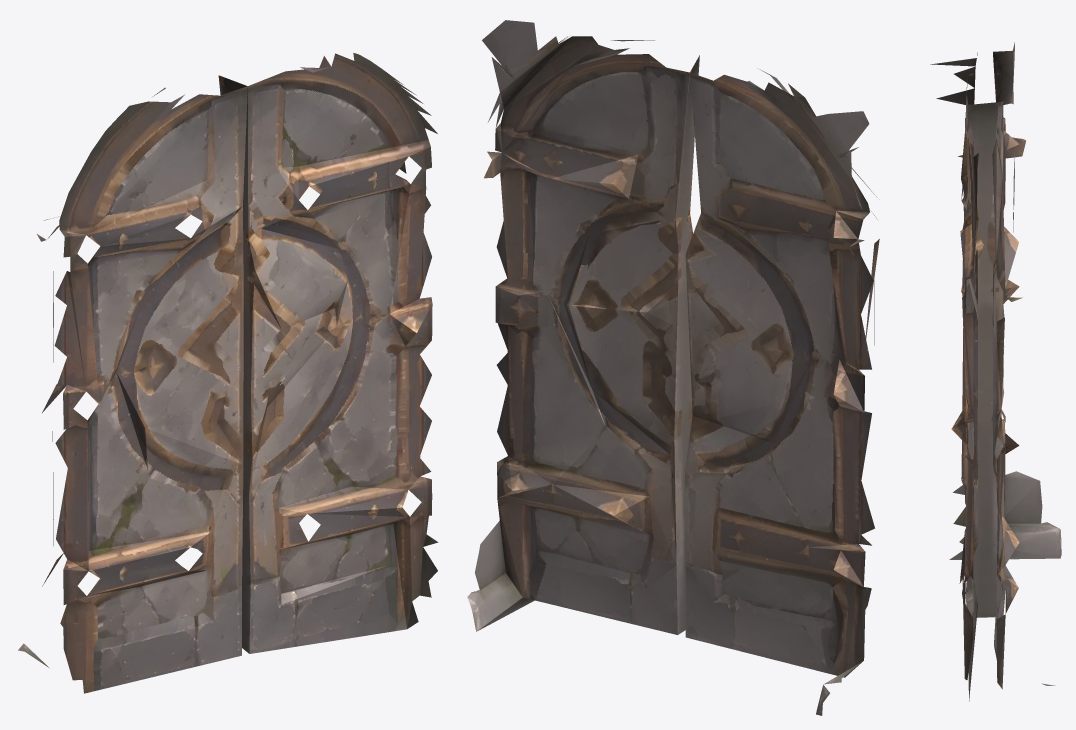
File: hub_sealed_gate_doors.glb
The picture shows the model from 3 angles, left to right: view 1: azimuth 30°, elevation 25°; view 2: azimuth 150°, elevation 25°; view 3: azimuth 270°, elevation 25°; orthographic projection. The views are drawn at different scales.
Parts seen in each view (by area): view 1: body; view 2: body; view 3: body.
Boxes of the visible parts, x1,y1,x2,y2 form: body: (18,53,438,693); body: (467,20,879,715); body: (930,42,1061,701).
Bounding box in the file's own units: 2.66 × 3.93 × 0.8828.
1 material, 1 textured.
